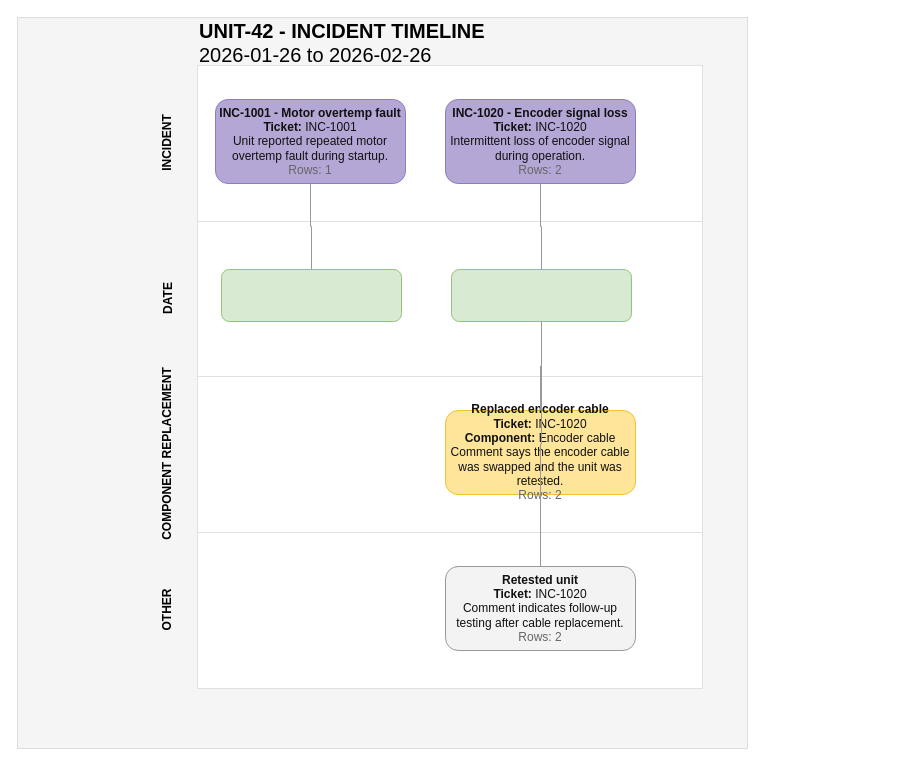
Some shapes in this 915 by 766 pixel diagram are drawn without their labels. Here are the shapes that lost their labels. From the top down, the centre of each, then its label:
(x=311, y=295): JAN 26, 2026
(x=541, y=295): FEB 26, 2026
